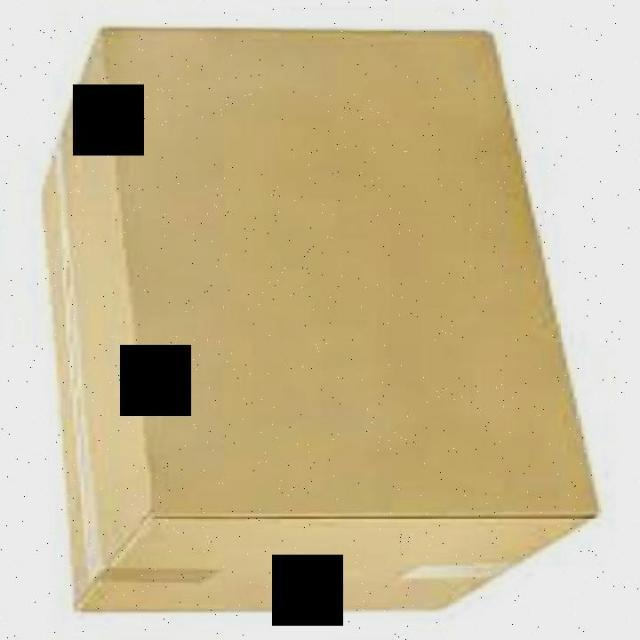box: (33, 16, 604, 622)
